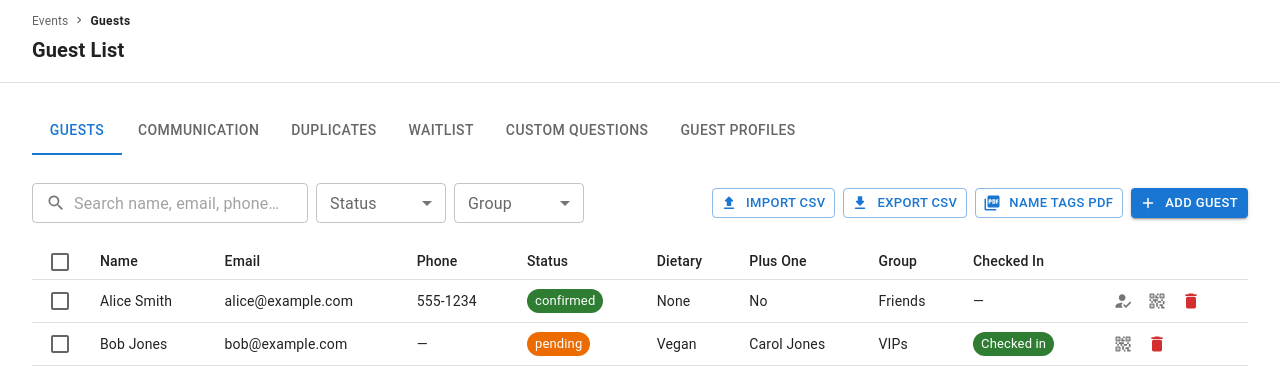
Test case: GuestsPage › filters guests by search query
Check: the text "Alice Smith" is shown, box top-left (84, 280), bottom-right (209, 322)
Type "alice" into the field named "search guests". click: (191, 203)
box: top-left (74, 183), bottom-right (308, 223)
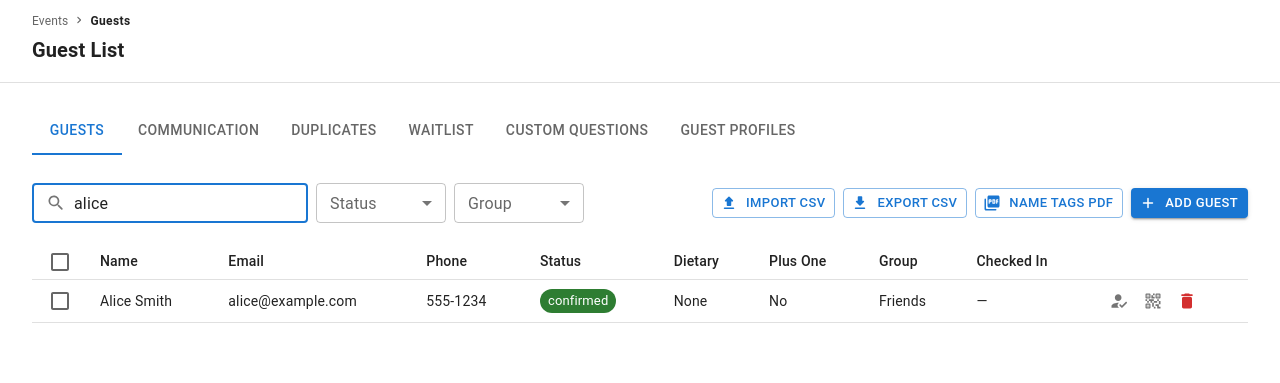
Check: the text "Alice Smith" is shown, box top-left (84, 280), bottom-right (212, 322)
Check: the text "Bob Jones" is gone
